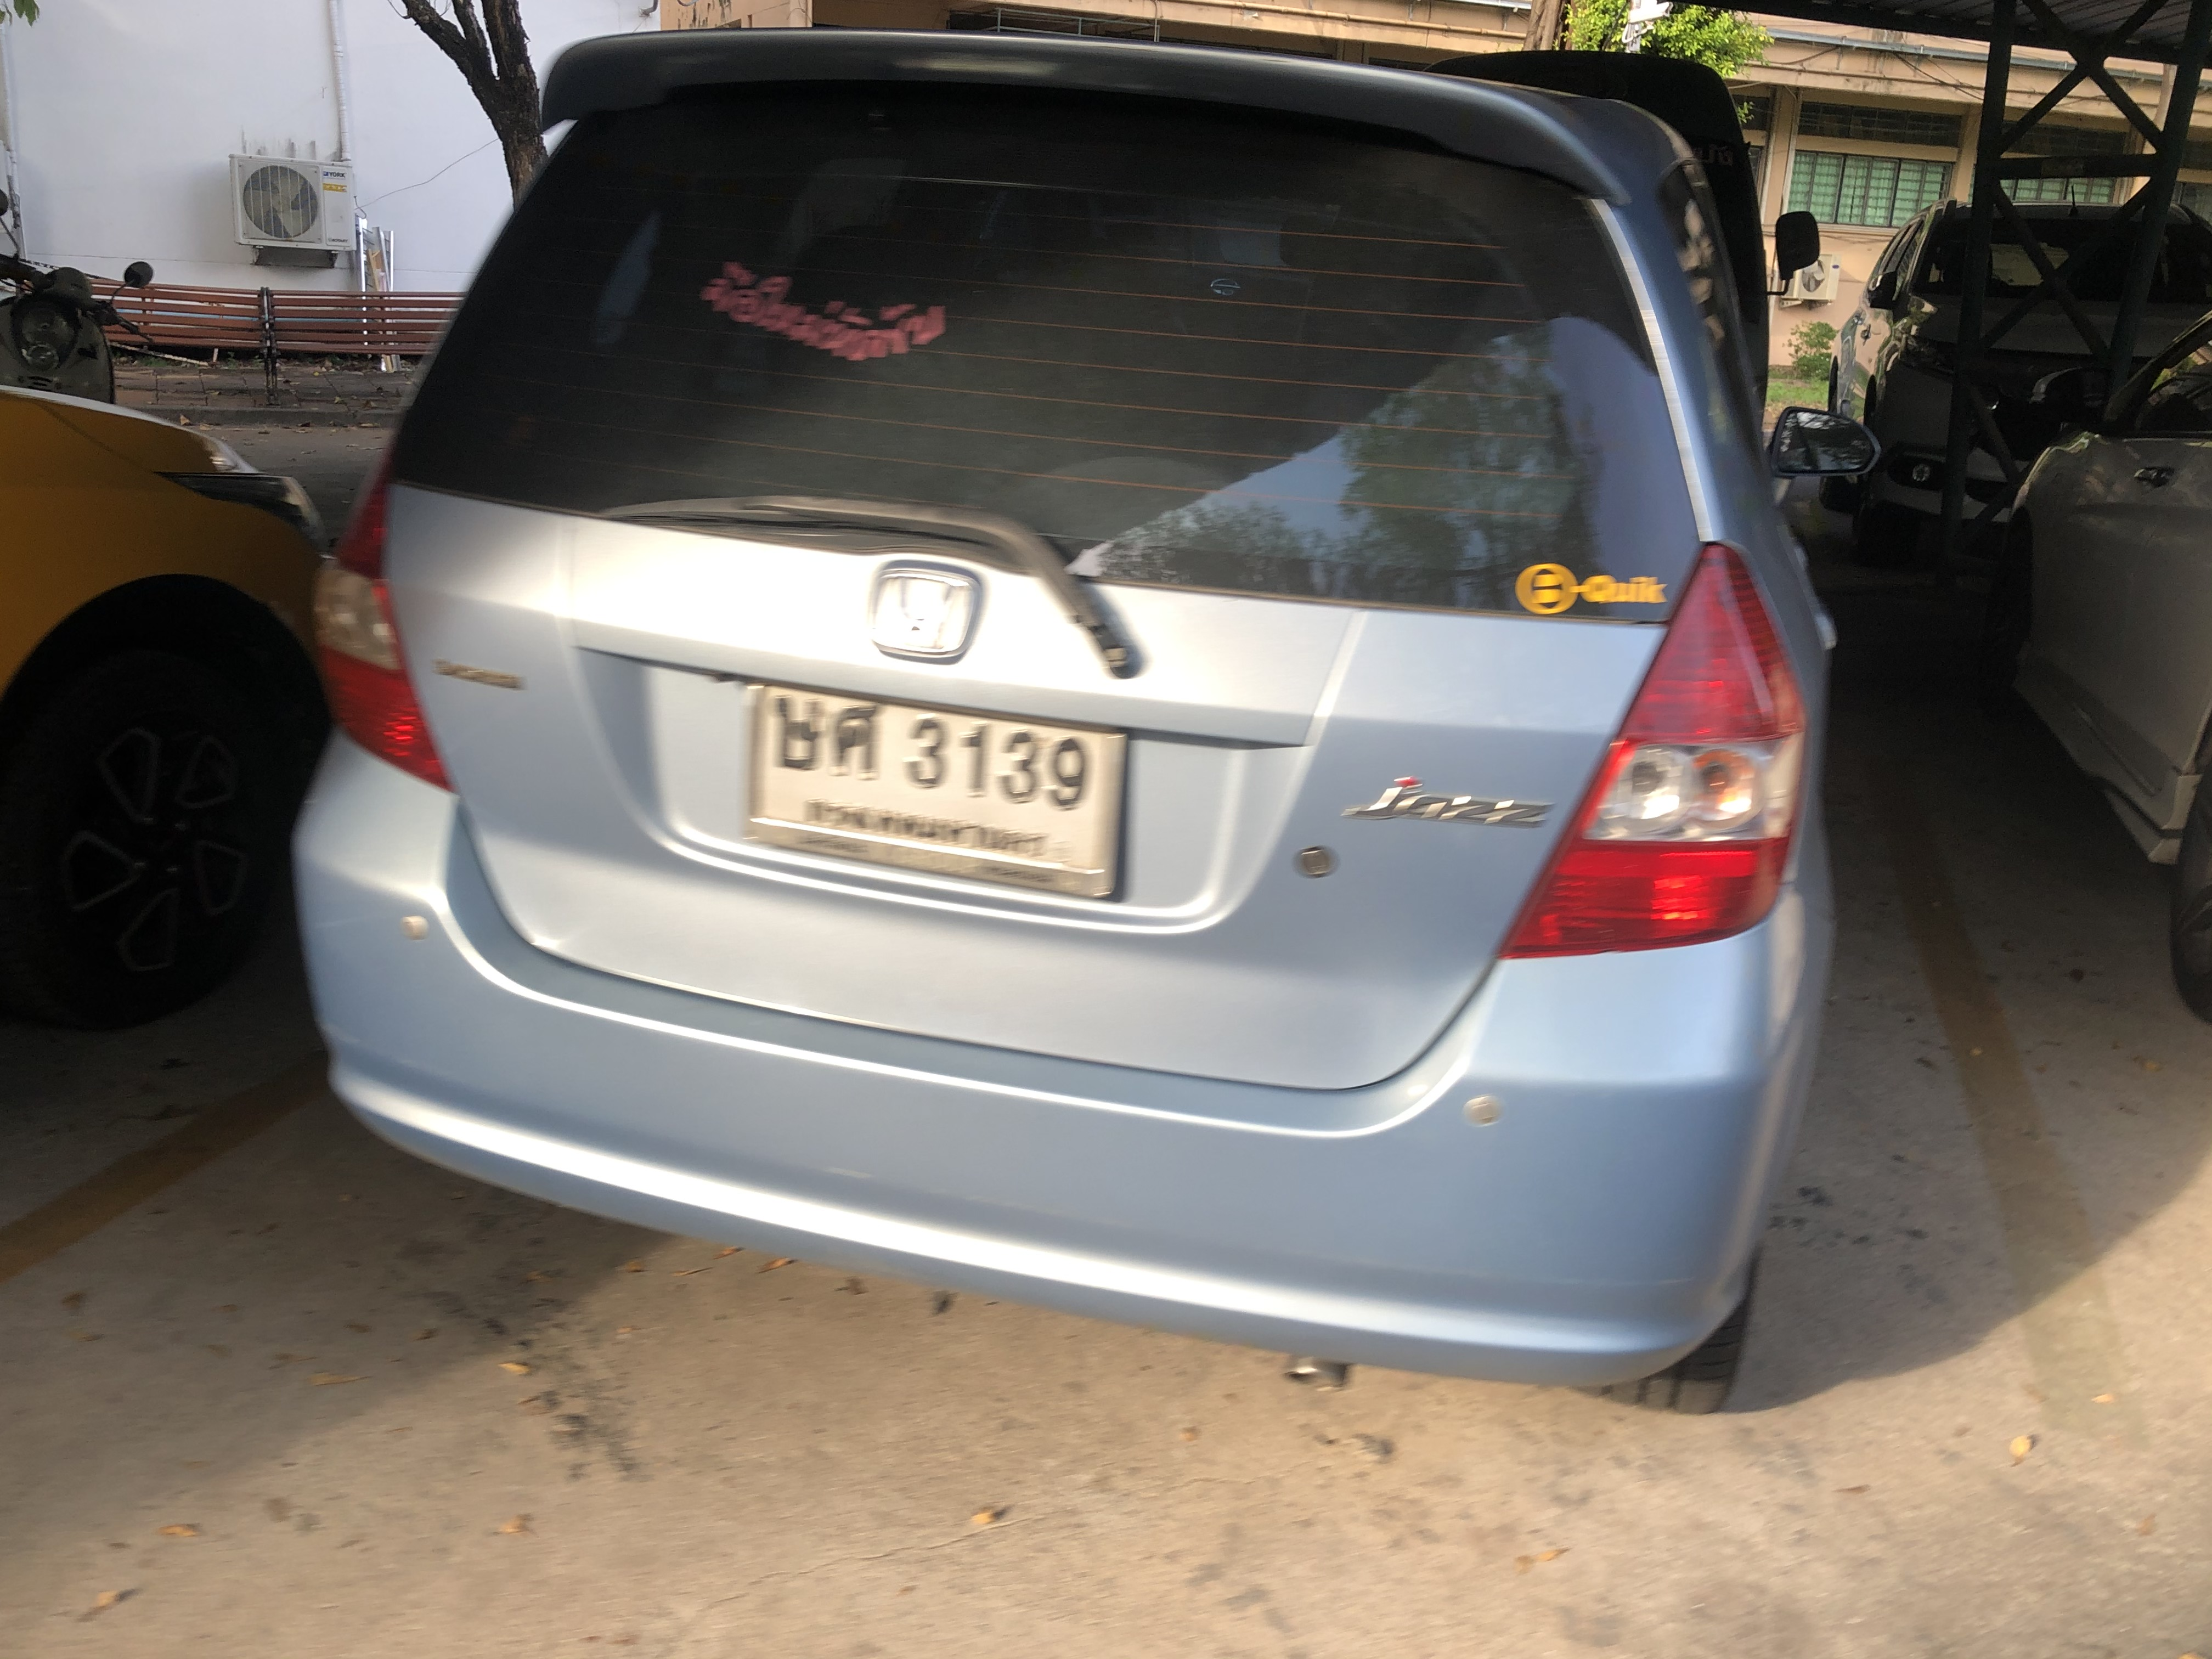in: (761, 685, 1099, 878)
out: (740, 671, 1122, 910)
